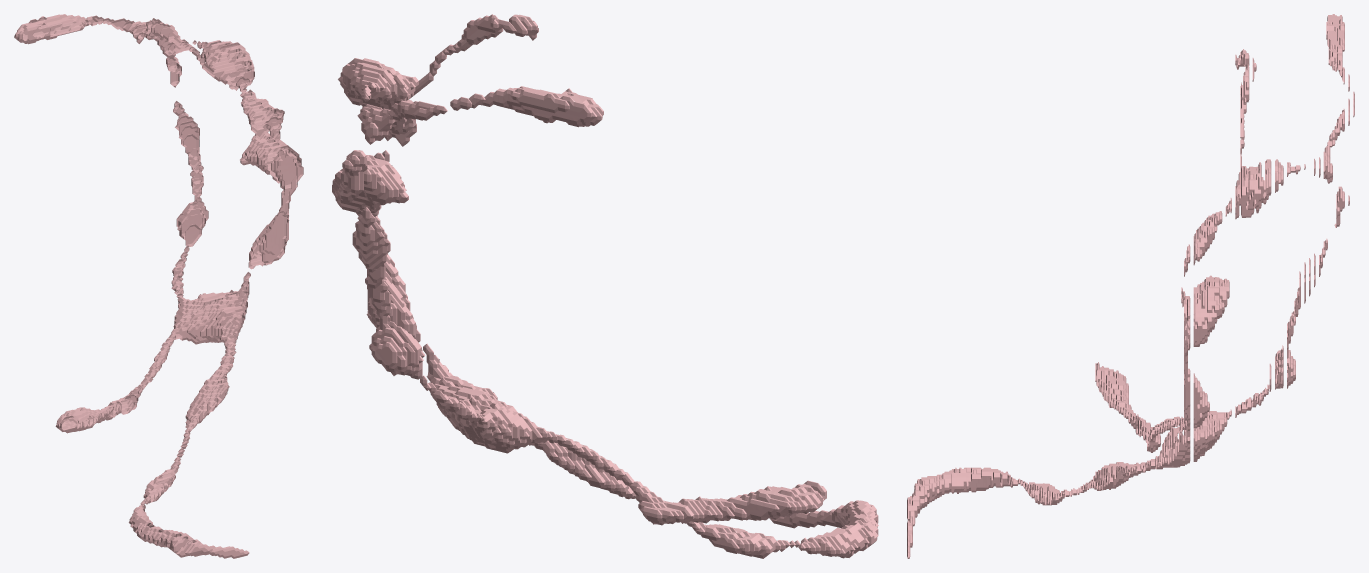
The model's file is SVV_RIBR.gltf.
The picture shows the model from 3 angles, left to right: view 1: azimuth 30°, elevation 25°; view 2: azimuth 150°, elevation 25°; view 3: azimuth 270°, elevation 25°; orthographic projection. The views are drawn at different scales.
Visible parts, largest first — view 1: RIBR; view 2: RIBR; view 3: RIBR.
Boxes of the visible parts, bbox=[...] form: RIBR: bbox=[14, 14, 303, 558]; RIBR: bbox=[332, 14, 878, 558]; RIBR: bbox=[907, 14, 1354, 558].
Bounding box in the file's own units: 62499 × 90670 × 70073.
